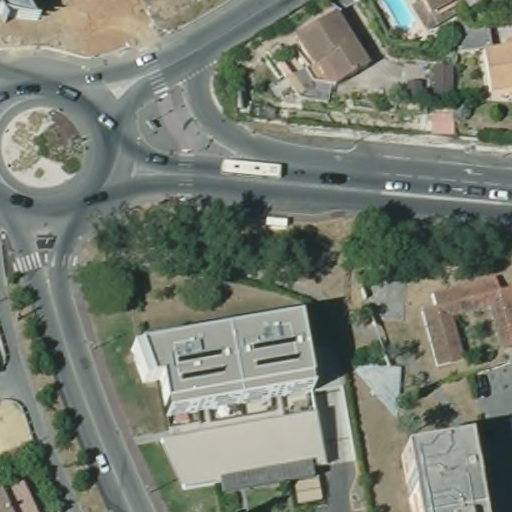pool: (383, 1, 419, 31)
